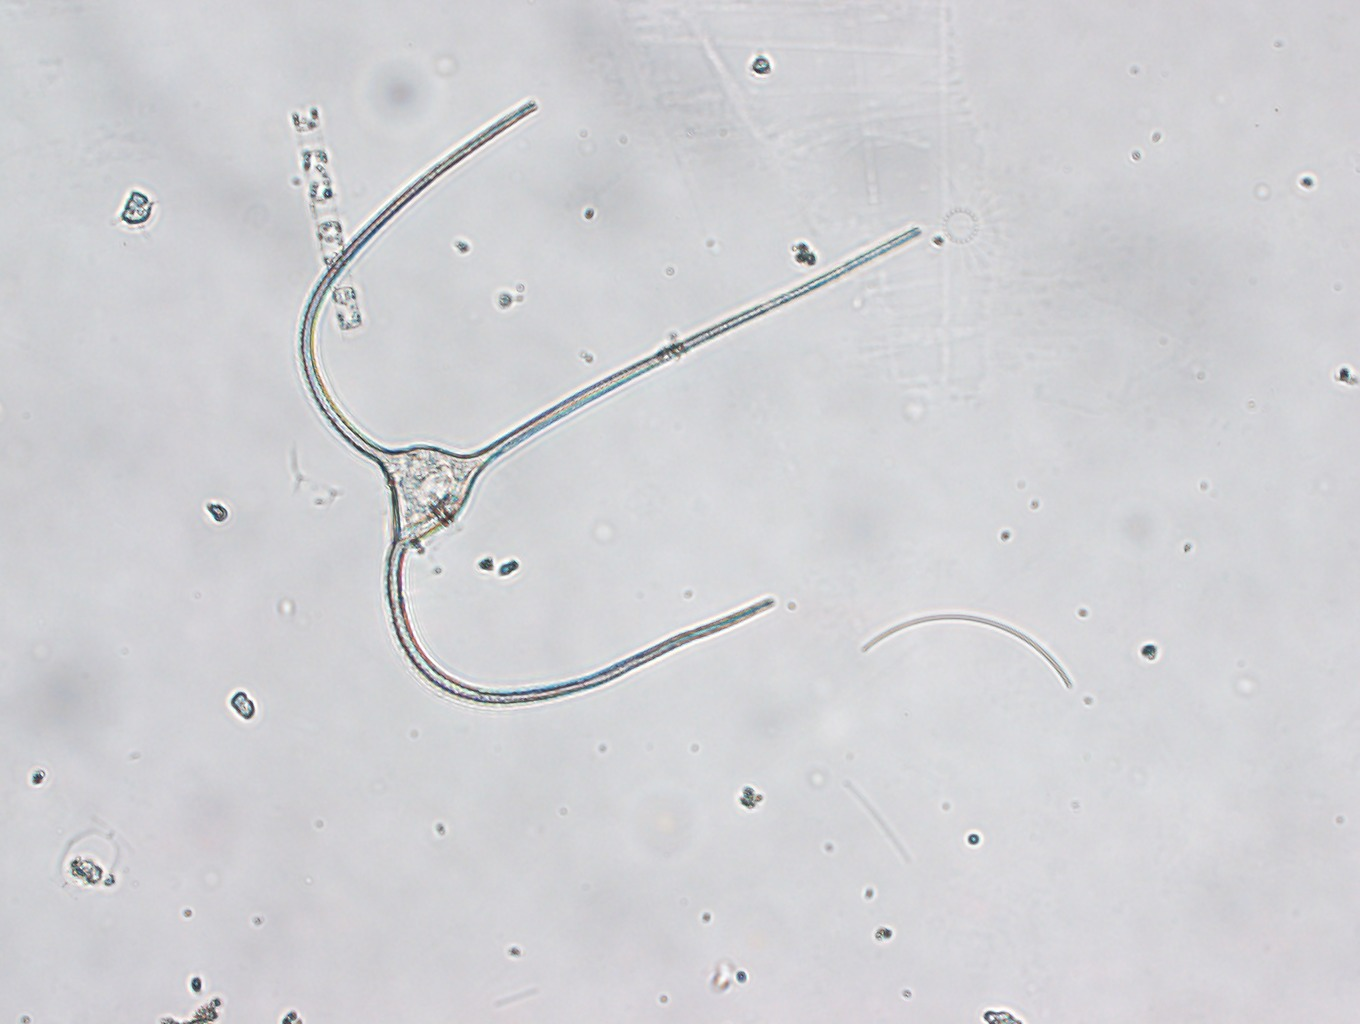ceratium trichoceros: (295, 99, 924, 706)
skeletonema: (292, 103, 362, 331)
